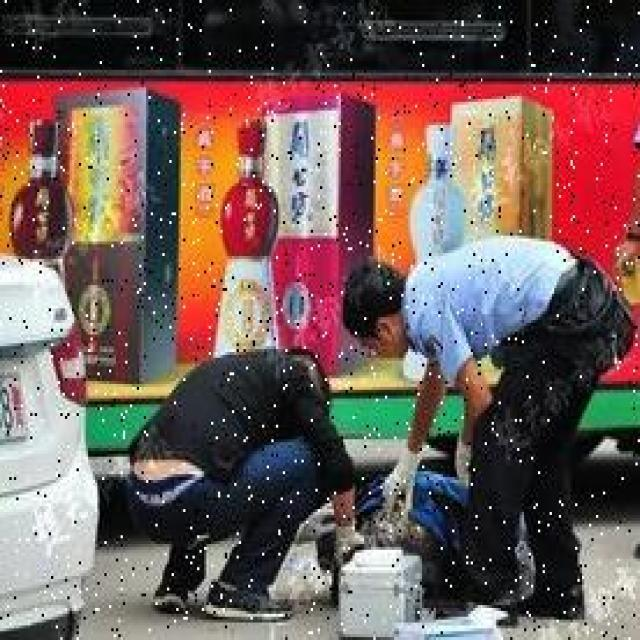fall: (316, 472, 468, 584)
